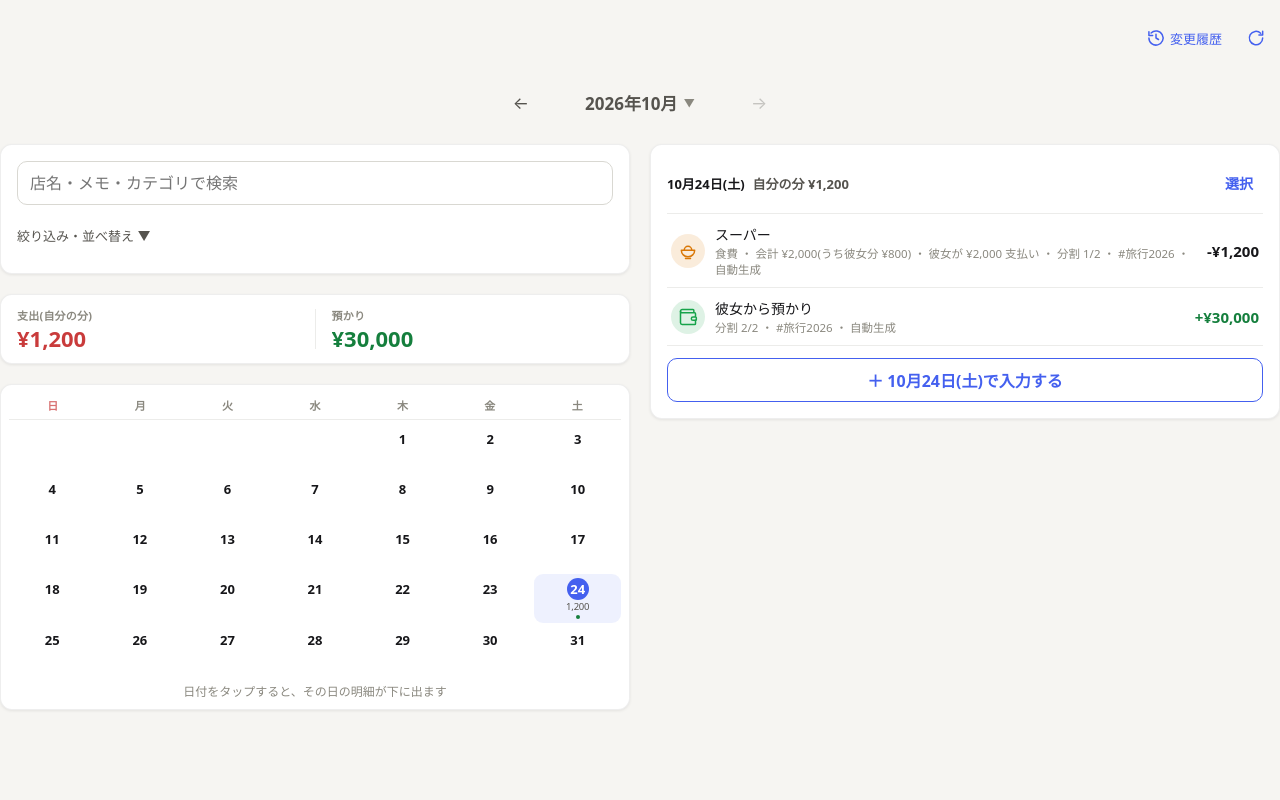
Test case: 複数選択からの一括カテゴリ変更 (機能151) › 預かりの記録は件数に数えない(カテゴリを持たないため)
The image size is (1280, 800).
Click the button "選択".
click(1239, 183)  # box [1215,161,1263,205]
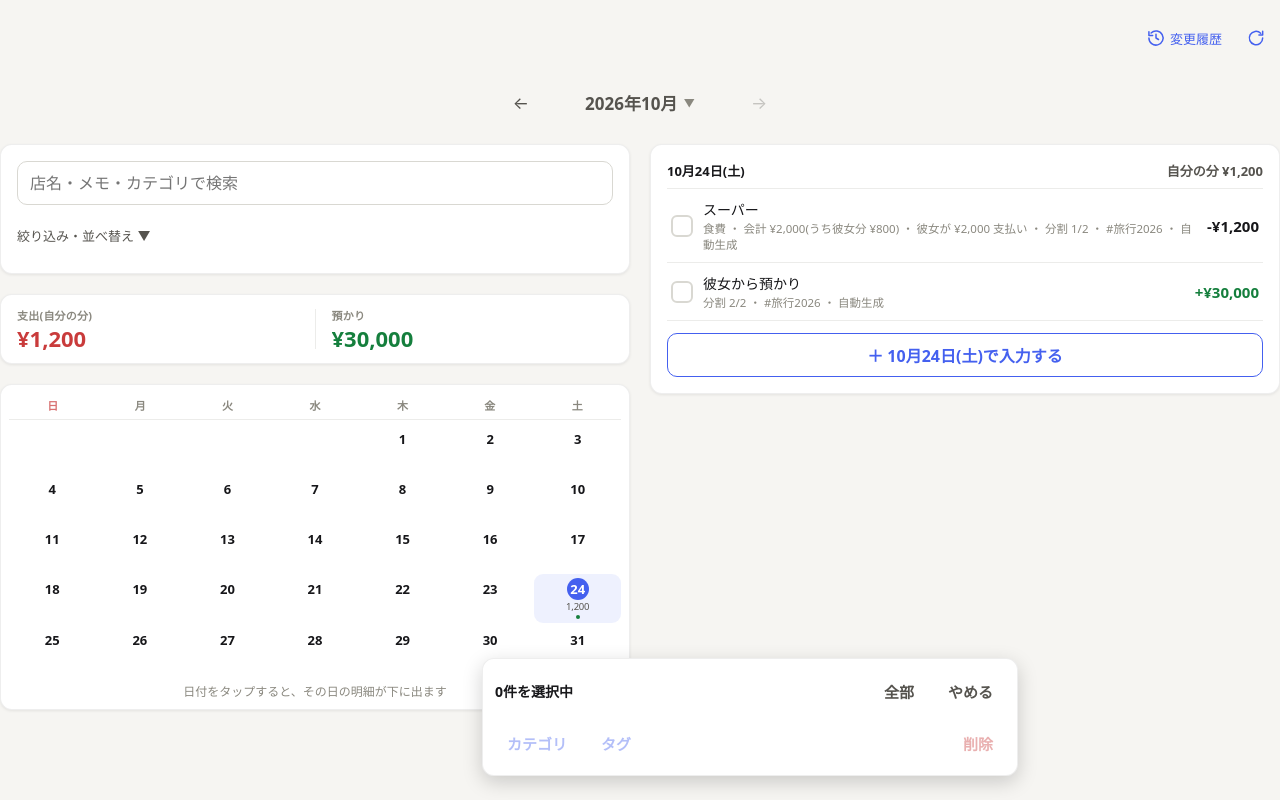
Click the button "全部".
click(899, 691)  # box [872,669,926,713]
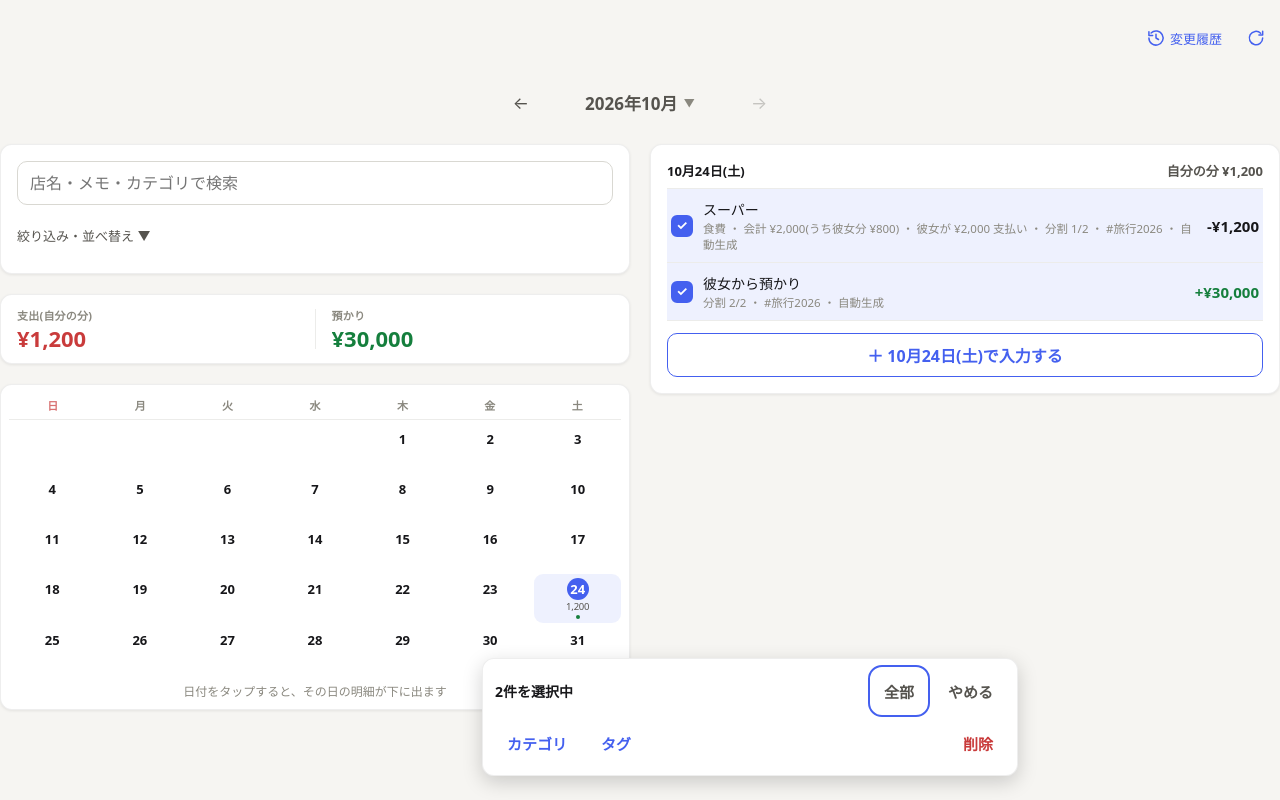
Click the button "カテゴリ".
click(537, 743)  # box [495,721,579,765]
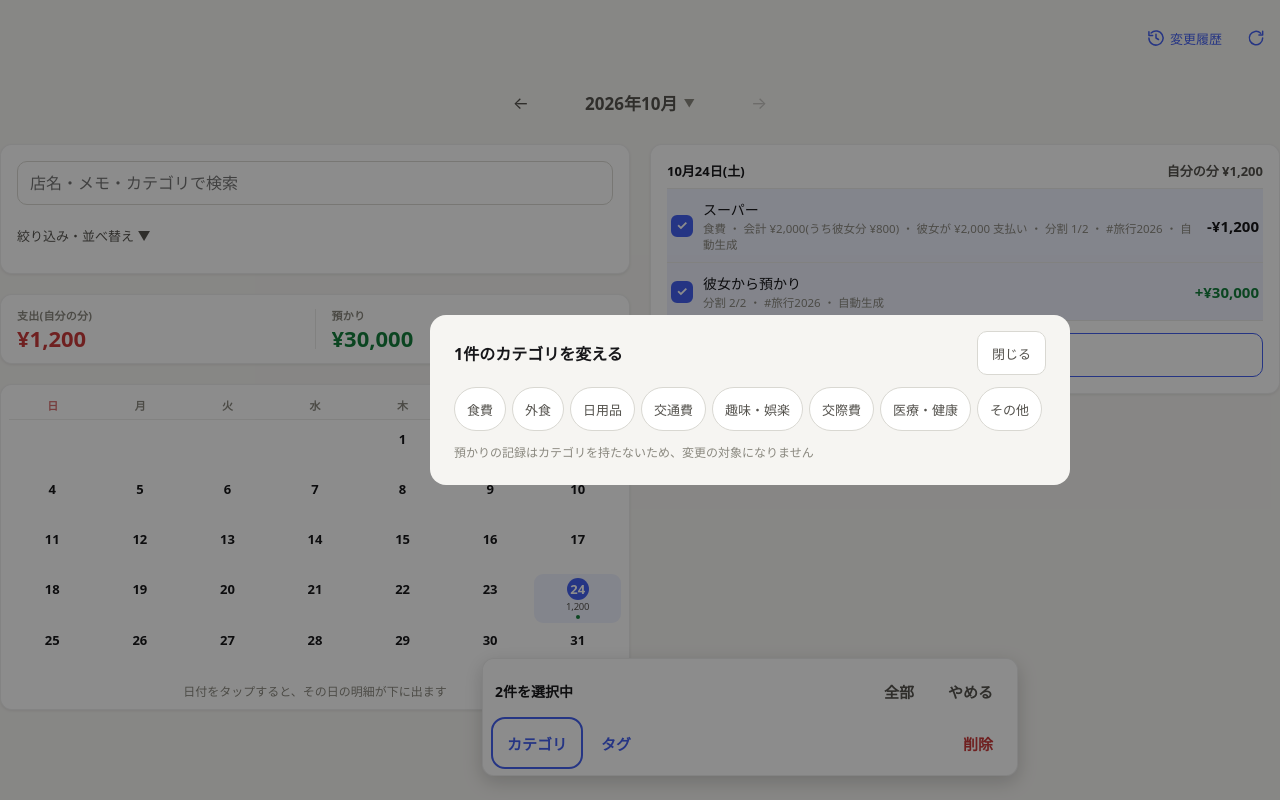
Expected: the heading "1件のカテゴリを変える" is shown, [454,341,623,365]
